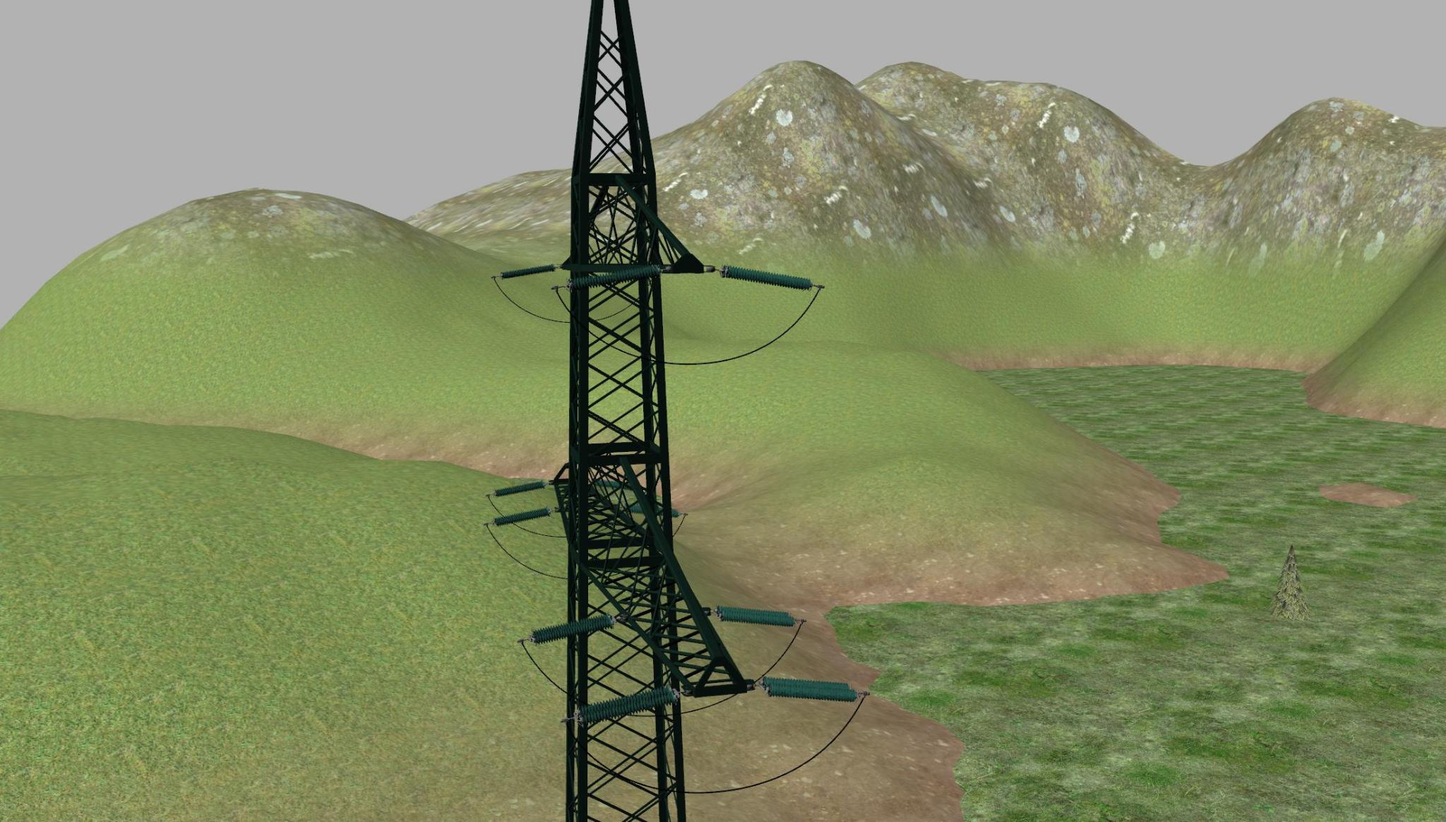tower: (556, 0, 748, 822)
